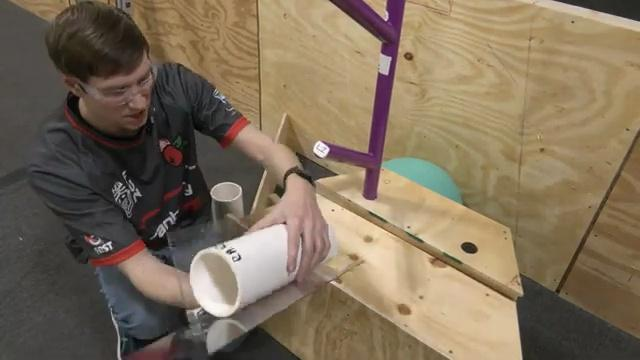CORAL: (189, 216, 337, 315), (211, 181, 244, 231)
